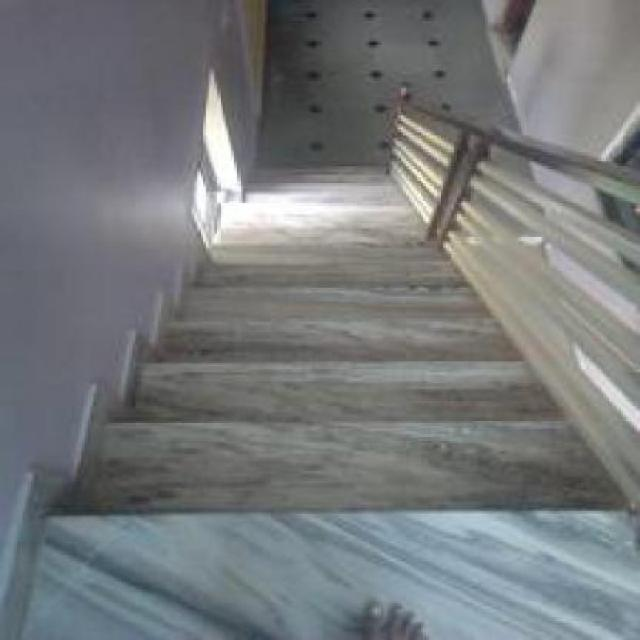stair: (63, 311, 571, 551)
